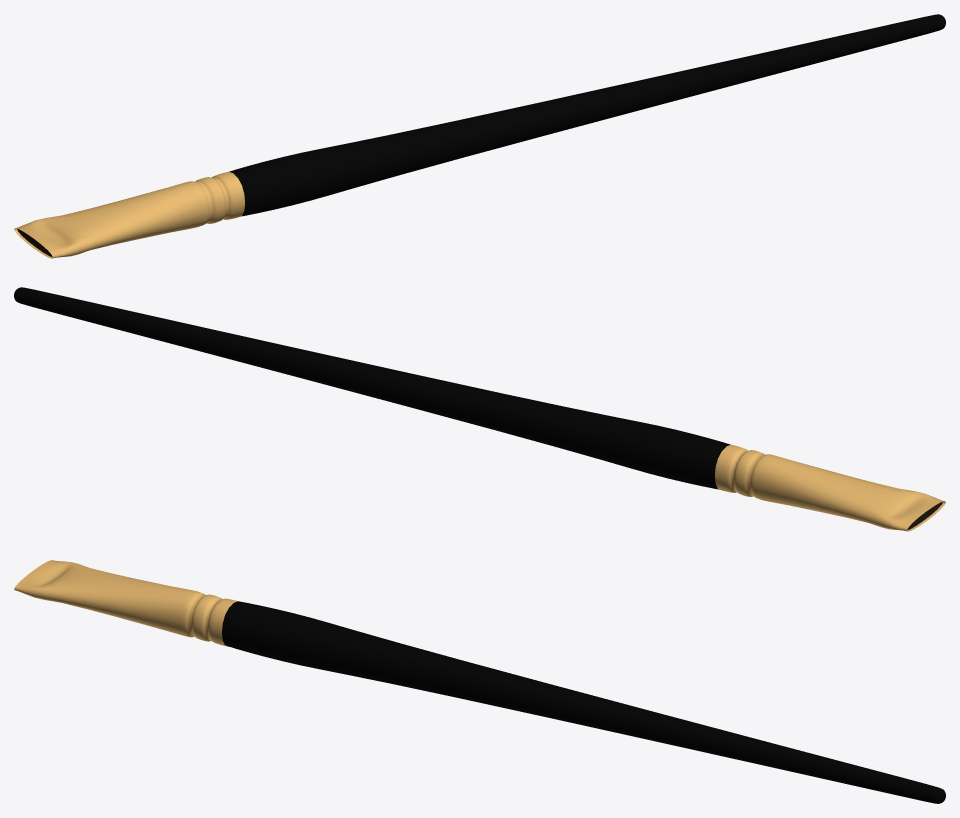
Rendered from brush.glb.
3 renders of one model, top to bottom at view 1: azimuth 30°, elevation 25°; view 2: azimuth 150°, elevation 25°; view 3: azimuth 330°, elevation 25°, orthographic.
Parts seen in each view (by area): view 1: 18 flat brush, Cube.001; view 2: 18 flat brush, Cube.001; view 3: 18 flat brush, Cube.001.
Part boxes in pixels (x1=…): 18 flat brush: x1=229, y1=14, x2=945, y2=216; Cube.001: x1=14, y1=171, x2=244, y2=258; 18 flat brush: x1=14, y1=287, x2=730, y2=489; Cube.001: x1=715, y1=444, x2=945, y2=531; 18 flat brush: x1=222, y1=601, x2=945, y2=803; Cube.001: x1=14, y1=560, x2=237, y2=646.
Size of the model in its own units: 2.26 by 0.1048 by 0.1702.
